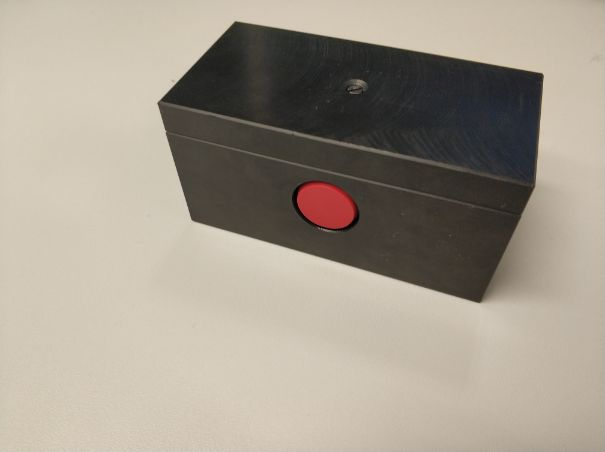black+black+red: (146, 15, 548, 308)
